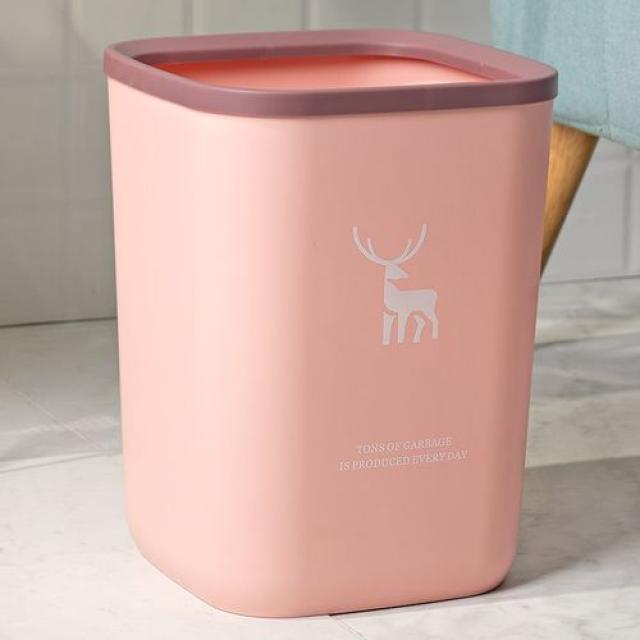dustbin: (105, 21, 560, 622)
